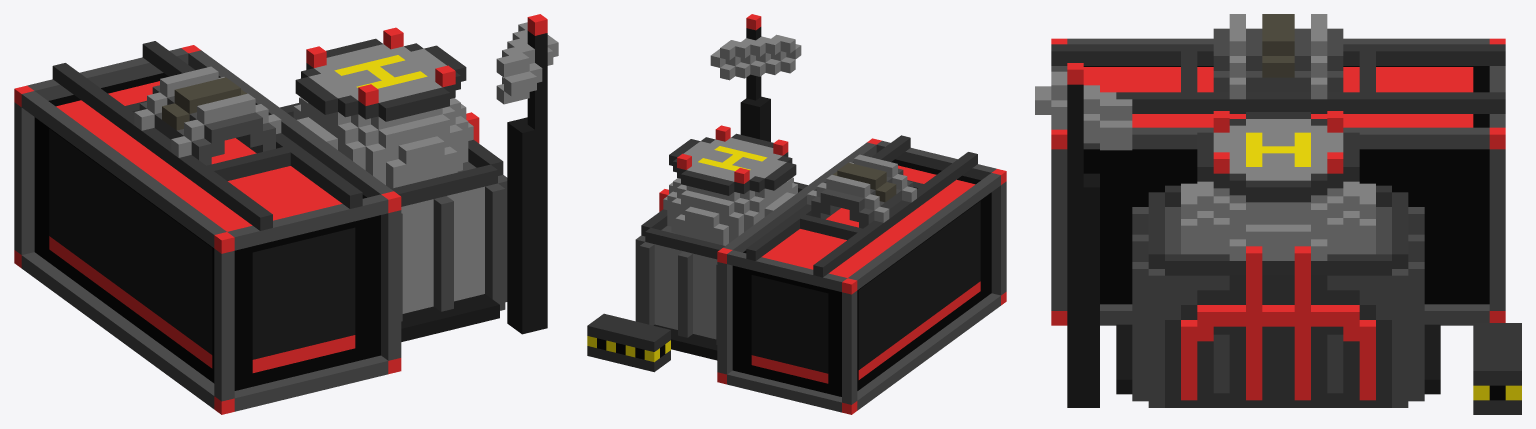
Rendered from Airport.obj.
The picture shows the model from 3 angles, left to right: view 1: azimuth 30°, elevation 25°; view 2: azimuth 150°, elevation 25°; view 3: azimuth 270°, elevation 25°; orthographic projection. The views are drawn at different scales.
Size of the model in its own units: 2.8 by 2.3 by 3.
Materials: 1 (1 with a texture image).
